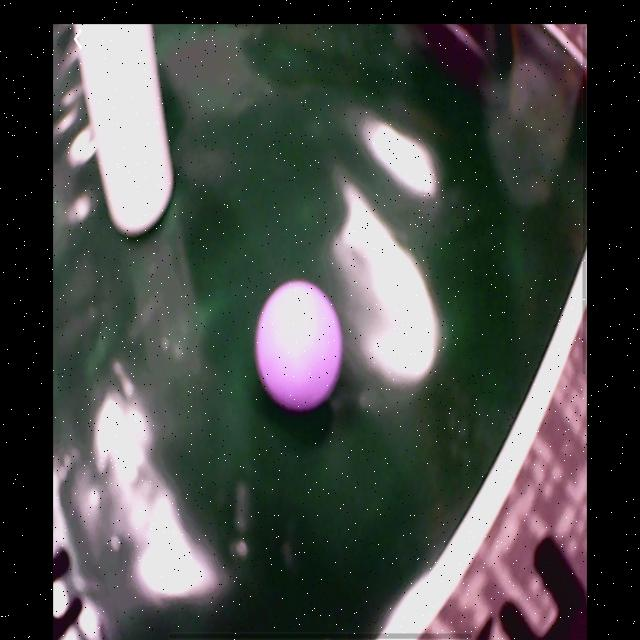ball: (257, 280, 344, 417)
